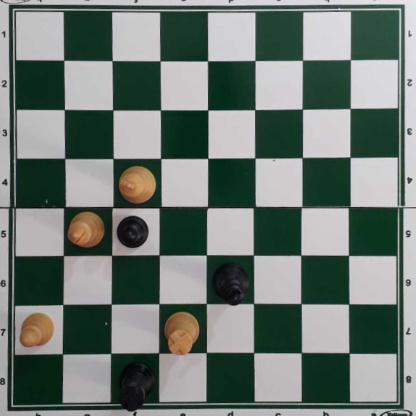black-king: (211, 263, 249, 306)
black-pawn: (117, 215, 149, 251)
black-rook: (117, 363, 158, 414)
white-bishop: (67, 212, 105, 250)
white-king: (118, 166, 157, 204)
white-pawn: (19, 313, 55, 350)
white-rook: (165, 312, 200, 355)
